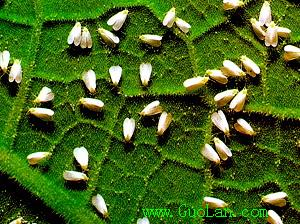whitefly: (211, 110, 233, 140), (210, 134, 233, 161), (95, 24, 119, 49), (199, 143, 223, 167), (214, 86, 240, 108), (233, 118, 259, 140), (71, 146, 91, 174), (107, 8, 131, 31), (238, 53, 260, 78), (221, 60, 247, 81), (182, 75, 216, 91), (229, 86, 249, 112), (26, 105, 54, 123), (259, 190, 287, 208), (91, 193, 110, 219), (31, 85, 54, 106), (247, 16, 267, 40), (81, 69, 98, 97), (77, 96, 104, 113), (204, 67, 229, 85), (138, 61, 153, 91), (137, 100, 162, 118), (156, 110, 172, 137), (8, 56, 23, 84), (66, 20, 82, 46), (27, 150, 54, 165), (108, 65, 123, 91), (122, 117, 137, 143), (138, 33, 163, 48), (258, 1, 272, 27), (265, 20, 278, 47), (62, 170, 89, 182), (80, 25, 93, 49), (162, 6, 176, 28), (174, 16, 191, 33), (1, 49, 10, 78), (222, 1, 246, 10)
